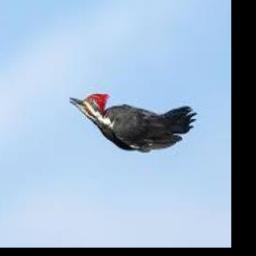Woodpecker: (70, 93, 199, 150)
